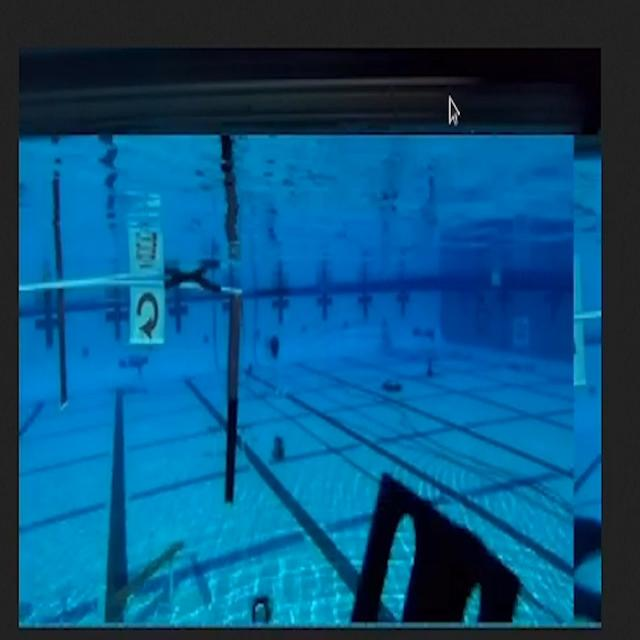Gate: (17, 274, 245, 542)
